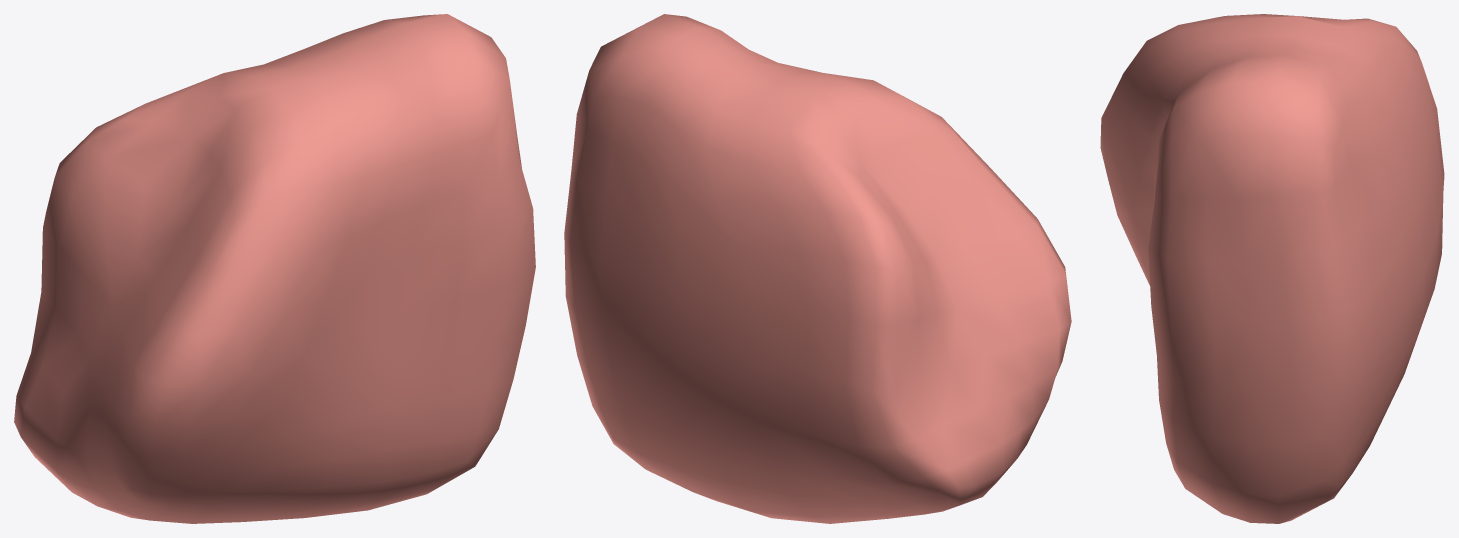
The model's file is mixamo_humanoid_surface_leftHand.fbx.
3 renders of one model, left to right at view 1: azimuth 30°, elevation 25°; view 2: azimuth 150°, elevation 25°; view 3: azimuth 270°, elevation 25°, orthographic. The views are drawn at different scales.
Parts seen in each view (by area): view 1: surface_LeftHand; view 2: surface_LeftHand; view 3: surface_LeftHand.
Part boxes in pixels (x1,y1,x2,y2): surface_LeftHand: (14, 14, 535, 523); surface_LeftHand: (564, 14, 1071, 523); surface_LeftHand: (1100, 14, 1444, 523).
Bounding box in the file's own units: 9.86 × 9.88 × 6.6.
